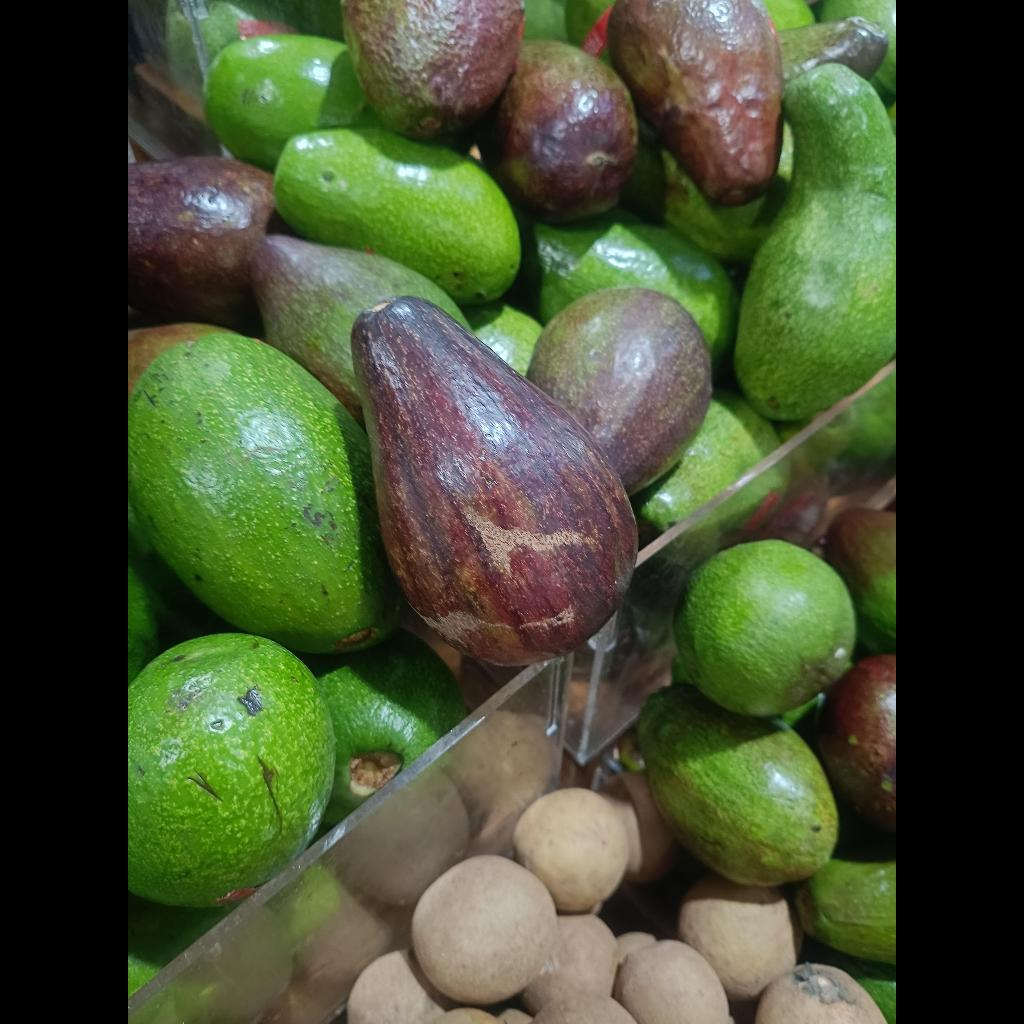scab: (351, 296, 637, 665)
